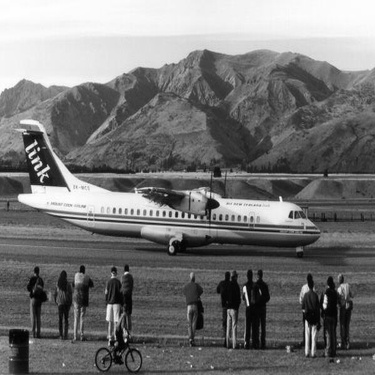airplane: (12, 109, 322, 264)
